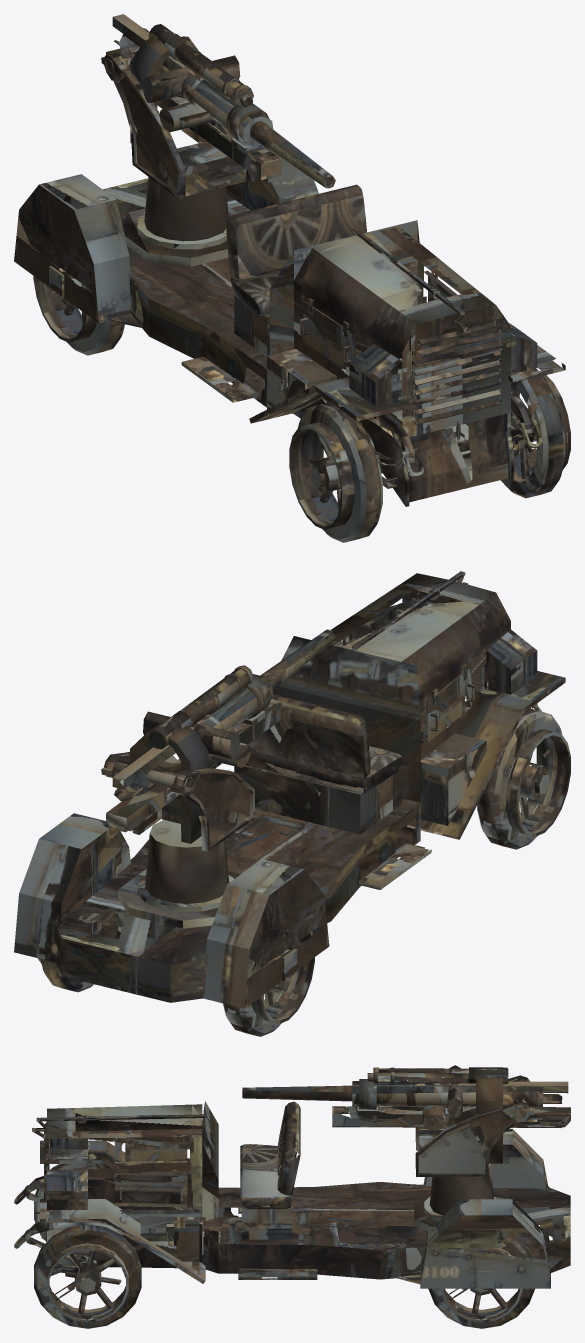
The model's file is flaktruck.dae.
The picture shows the model from 3 angles, top to bottom: view 1: azimuth 30°, elevation 25°; view 2: azimuth 150°, elevation 25°; view 3: azimuth 270°, elevation 25°; orthographic projection. The views are drawn at different scales.
Visible parts, largest first — view 1: base, wheelf, gun, turret, wheelb; view 2: base, gun, wheelf, wheelb, turret; view 3: base, gun, wheelf, turret, wheelb.
Boxes of the visible parts, <box> form: base: <box>14,149,565,506</box>; wheelf: <box>289,368,570,542</box>; gun: <box>101,14,335,188</box>; turret: <box>113,70,254,199</box>; wheelb: <box>33,198,281,355</box>; base: <box>14,571,565,1008</box>; gun: <box>101,629,335,843</box>; wheelf: <box>477,708,570,849</box>; wheelb: <box>37,912,314,1036</box>; turret: <box>124,752,254,851</box>; base: <box>14,1101,570,1289</box>; gun: <box>242,1065,570,1163</box>; wheelf: <box>34,1164,141,1328</box>; turret: <box>415,1106,516,1176</box>; wheelb: <box>428,1238,534,1328</box>.
Size of the model in its own units: 21.8 by 58.05 by 25.75.
Materials: 1 (1 with a texture image).
